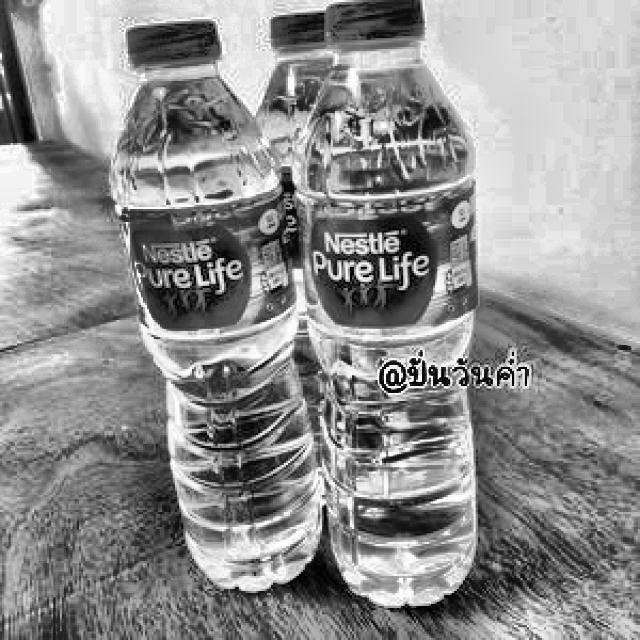waterbottle: (100, 10, 333, 598), (284, 0, 489, 619), (222, 6, 416, 518)
